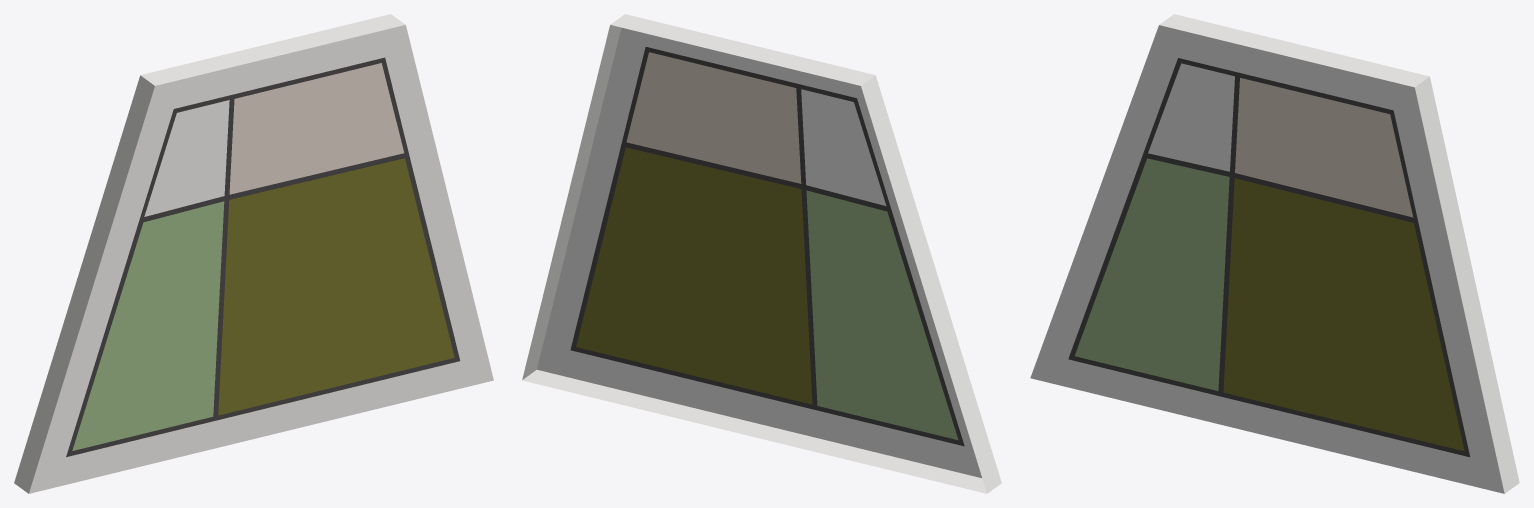
Rendered from Picture_13.fbx.
The picture shows the model from 3 angles, left to right: view 1: azimuth 30°, elevation 25°; view 2: azimuth 150°, elevation 25°; view 3: azimuth 330°, elevation 25°; orthographic projection.
Visible parts, largest first — view 1: Picture_13; view 2: Picture_13; view 3: Picture_13.
Boxes of the visible parts, left/top/right/bottom form: Picture_13: left=14, top=14, right=493, bottom=493; Picture_13: left=522, top=14, right=1001, bottom=493; Picture_13: left=1030, top=14, right=1519, bottom=493.
Size of the model in its own units: 106 by 5.82 by 81.93.
